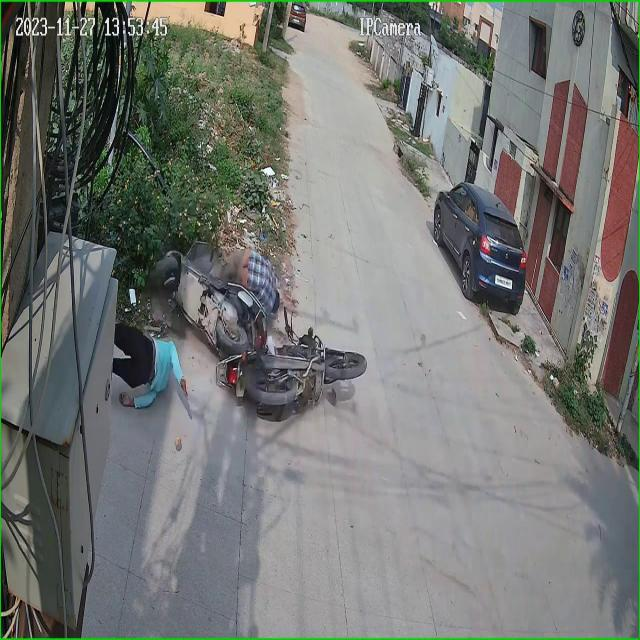accident: (112, 210, 369, 453)
